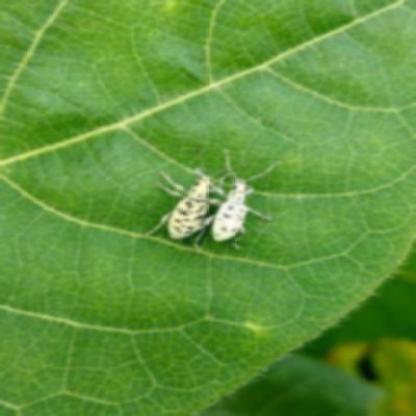ash weevil: (167, 176, 212, 240), (210, 180, 252, 241)
